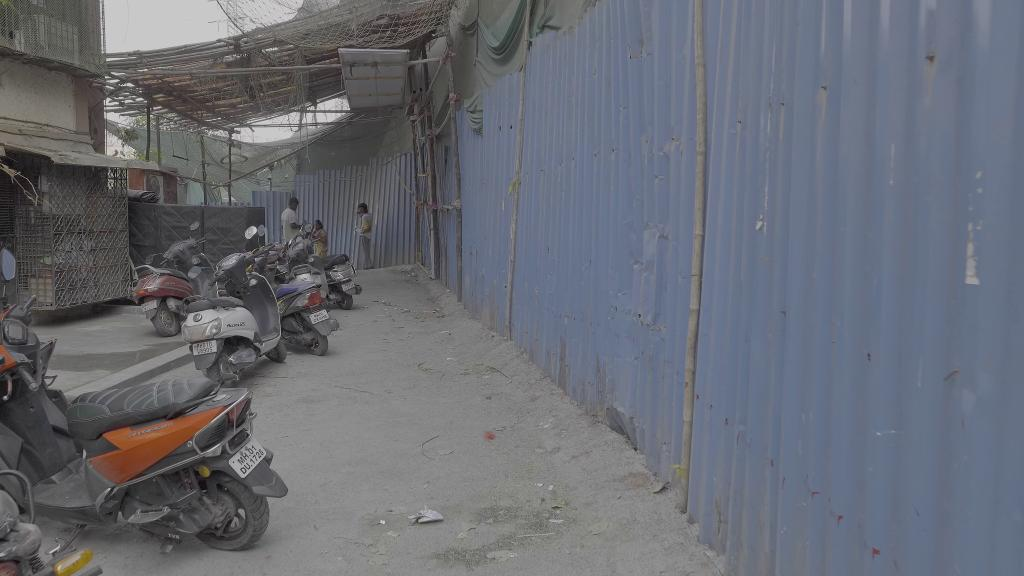garbage: (409, 505, 449, 527)
